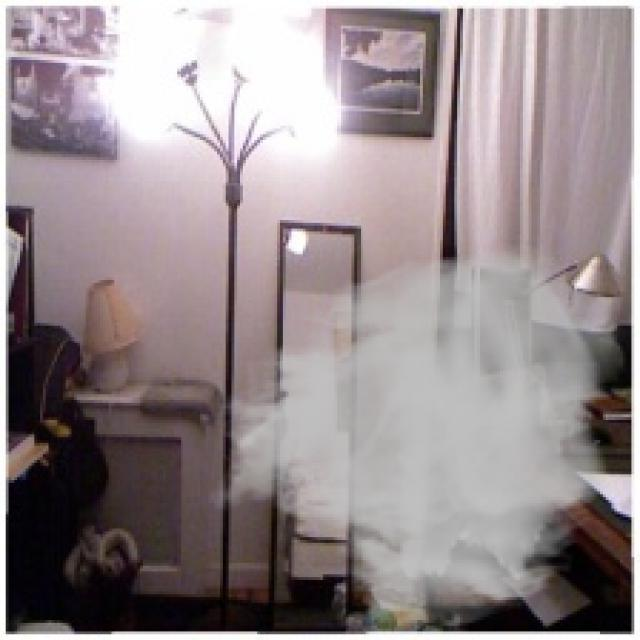smoke: (206, 240, 628, 631)
